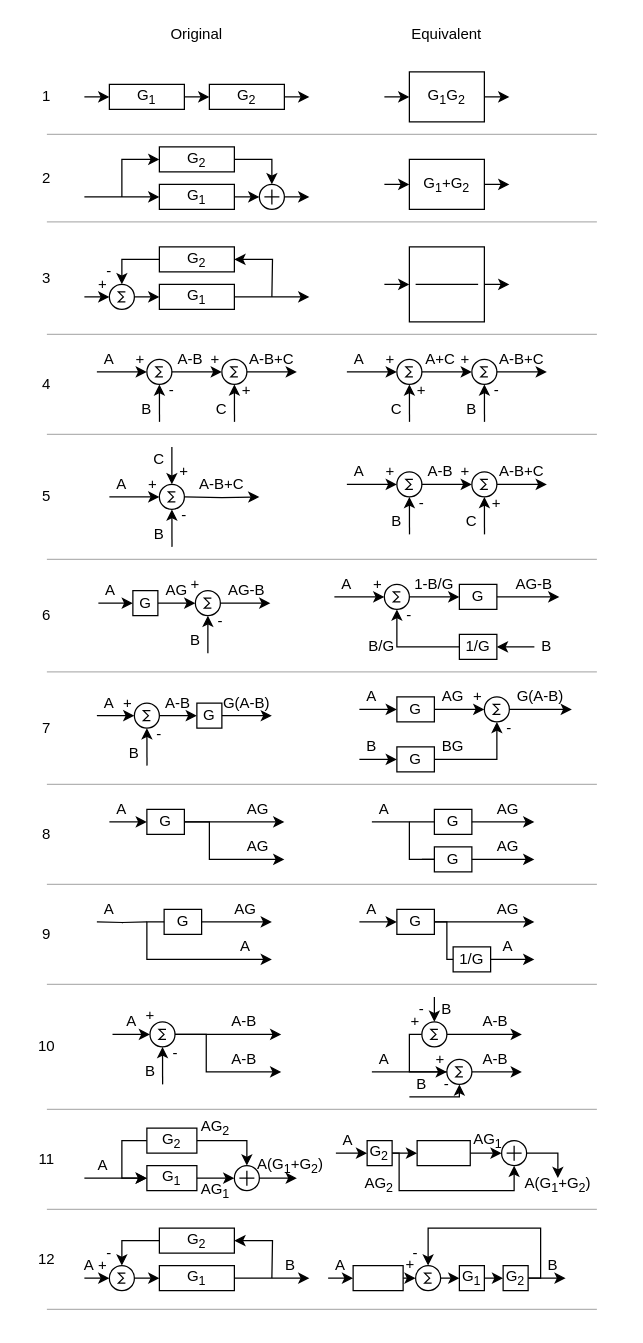
The diagram is 643 pixels wide and 1343 high, and some of its shapes have lost their labels. Here are the shapes that lost their labels. From the top down, the centre of each, then its label:
At (x=446, y=284): "G 1 1 + G 1 G 2".
At (x=443, y=1152): "G 1 /G 2".
At (x=377, y=1277): "1/G 2".
